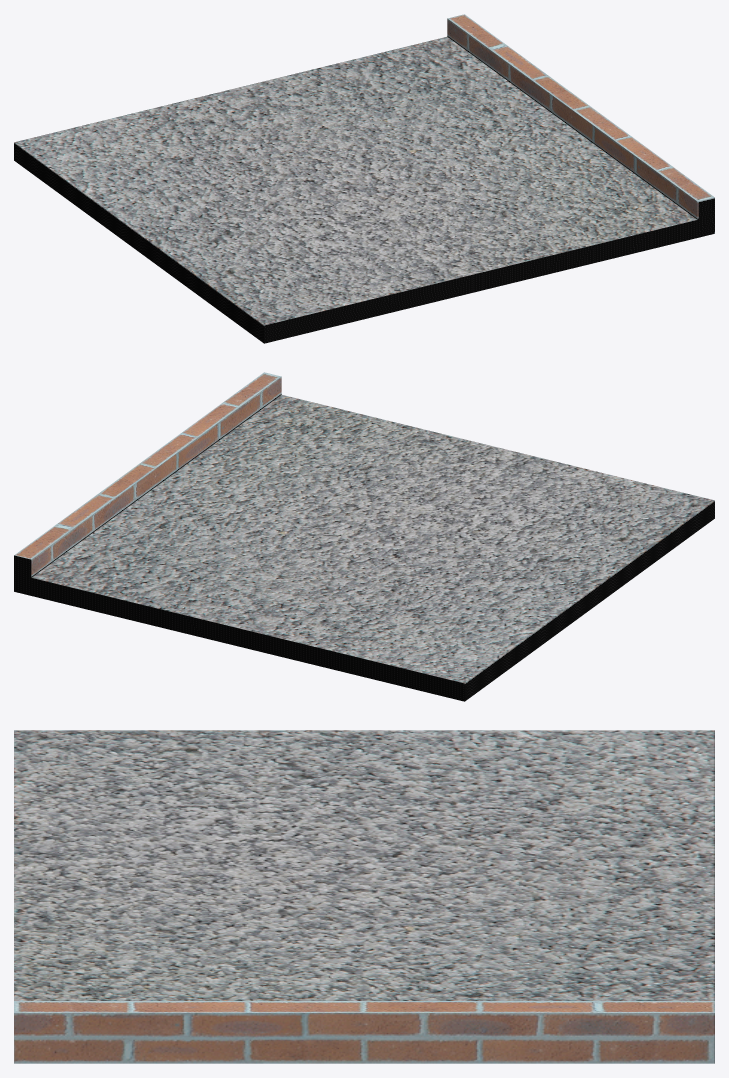
File: roofside.fbx
3 views of the same model, one above another, from view 1: azimuth 30°, elevation 25°; view 2: azimuth 150°, elevation 25°; view 3: azimuth 270°, elevation 25° (orthographic). The views are drawn at different scales.
Parts seen in each view (by area): view 1: roofside; view 2: roofside; view 3: roofside.
Boxes of the visible parts, <box> form: roofside: <box>14,14,714,343</box>; roofside: <box>14,372,714,701</box>; roofside: <box>14,730,714,1063</box>.
Size of the model in its own units: 2.6 by 0.2 by 2.5.
1 material, 1 textured.
